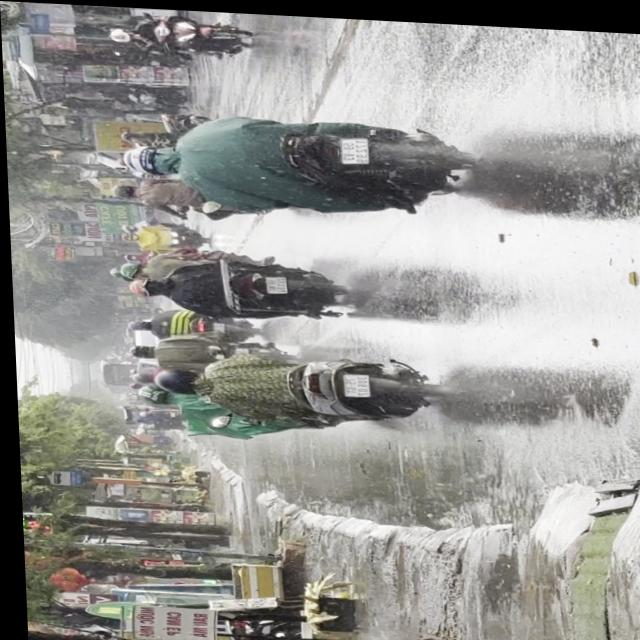helmet: (119, 140, 176, 174), (149, 364, 196, 392), (123, 275, 159, 295), (112, 259, 143, 278)
licenseplate: (110, 99, 480, 221), (130, 339, 447, 424), (112, 241, 353, 320)
nohelmet: (338, 132, 366, 159), (338, 369, 365, 392), (263, 272, 283, 290)
